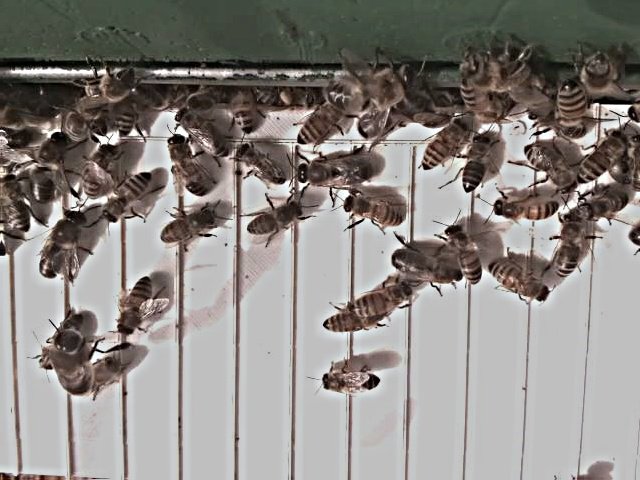Drone: (35, 208, 87, 285), (290, 152, 372, 194), (28, 128, 70, 209), (386, 246, 462, 288)
Worker: (522, 139, 578, 199), (574, 128, 630, 188), (486, 260, 550, 307), (175, 109, 230, 162), (113, 273, 156, 340), (165, 133, 207, 200), (442, 224, 484, 288), (346, 280, 411, 321), (102, 171, 150, 226), (157, 207, 215, 251), (233, 141, 289, 186), (418, 122, 466, 173), (338, 193, 404, 230), (78, 142, 119, 200), (245, 200, 302, 241), (458, 135, 493, 197), (552, 212, 583, 280), (317, 368, 381, 400), (296, 104, 343, 147), (491, 196, 558, 226), (0, 176, 33, 236), (317, 311, 384, 339)
